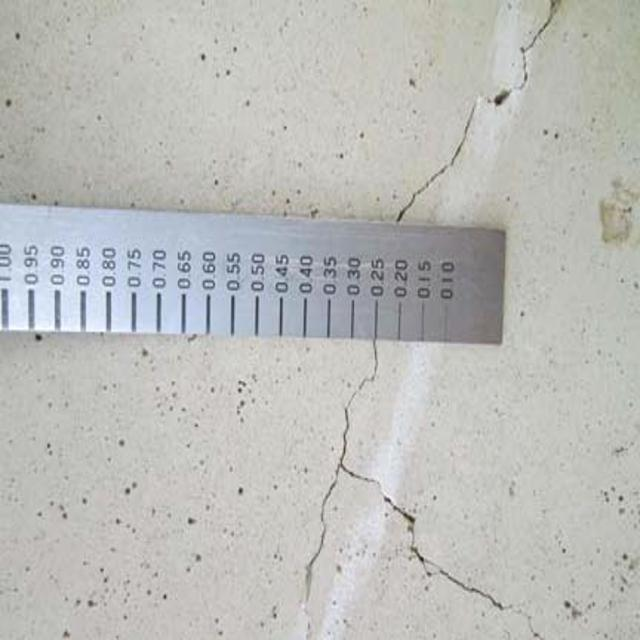crack: (294, 357, 517, 640), (390, 0, 566, 237)
